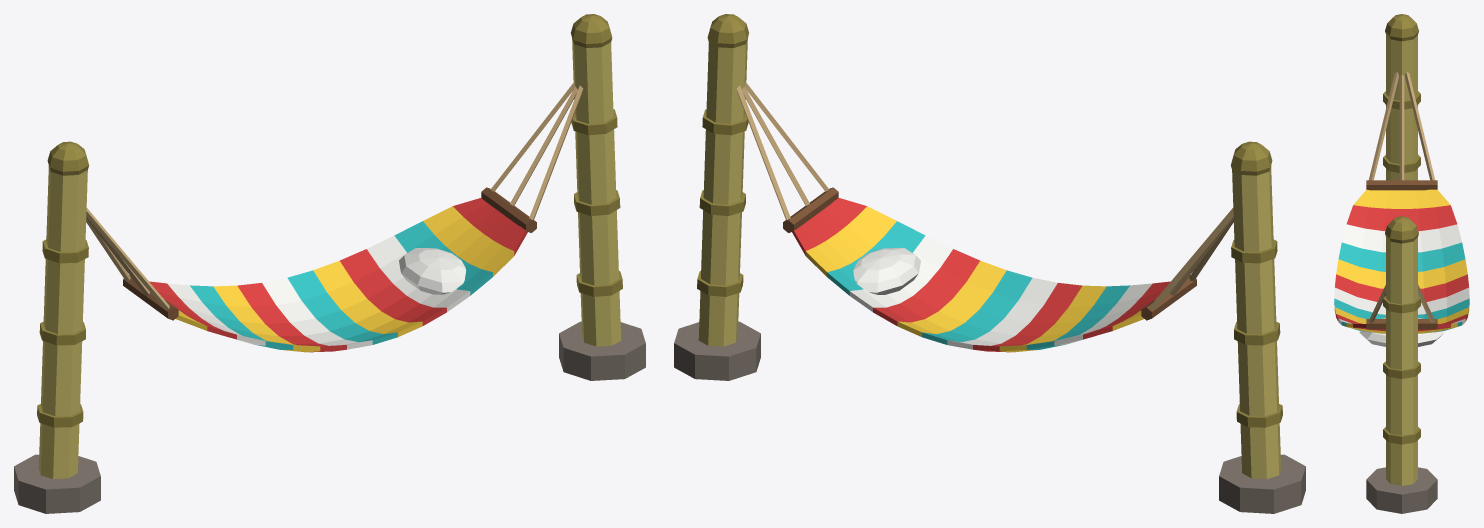
File: Hammock.fbx
3 views of the same model, side by side, from view 1: azimuth 30°, elevation 25°; view 2: azimuth 150°, elevation 25°; view 3: azimuth 270°, elevation 25° (orthographic). The views are drawn at different scales.
Visible parts, largest first — view 1: Hammock_Bamboo, Hammock_White, Hammock_Red, Hammock_Rock, Hammock_Yellow, Hammock_BambooDark, Hammock_Turquoise, Hammock_Rope, Hammock_WoodDark; view 2: Hammock_Bamboo, Hammock_White, Hammock_Red, Hammock_Rock, Hammock_Yellow, Hammock_BambooDark, Hammock_Turquoise, Hammock_Rope, Hammock_WoodDark; view 3: Hammock_Bamboo, Hammock_Yellow, Hammock_Red, Hammock_White, Hammock_BambooDark, Hammock_Turquoise, Hammock_Rock, Hammock_Rope, Hammock_WoodDark.
Part boxes in pixels (x1,y1,x2,y2): Hammock_Bamboo: (38, 38, 621, 479); Hammock_White: (167, 235, 470, 349); Hammock_Red: (149, 198, 527, 352); Hammock_Rock: (14, 321, 645, 513); Hammock_Yellow: (163, 206, 514, 352); Hammock_BambooDark: (37, 14, 622, 427); Hammock_Turquoise: (190, 221, 492, 349); Hammock_Rope: (86, 81, 583, 309); Hammock_WoodDark: (123, 187, 536, 320); Hammock_Bamboo: (698, 38, 1281, 479); Hammock_White: (849, 235, 1152, 349); Hammock_Red: (792, 198, 1170, 352); Hammock_Rock: (674, 321, 1305, 513); Hammock_Yellow: (805, 206, 1156, 352); Hammock_BambooDark: (697, 14, 1282, 427); Hammock_Turquoise: (827, 221, 1129, 349); Hammock_Rope: (736, 81, 1233, 309); Hammock_WoodDark: (783, 187, 1196, 320); Hammock_Bamboo: (1386, 35, 1417, 485); Hammock_Yellow: (1334, 189, 1469, 333); Hammock_Red: (1335, 205, 1468, 331); Hammock_White: (1334, 224, 1469, 346); Hammock_BambooDark: (1383, 14, 1420, 444); Hammock_Turquoise: (1334, 242, 1469, 332); Hammock_Rock: (1366, 467, 1437, 513); Hammock_Rope: (1368, 72, 1435, 323); Hammock_WoodDark: (1366, 180, 1437, 329).
Bounding box in the file's own units: 16 × 8.6 × 3.8.
